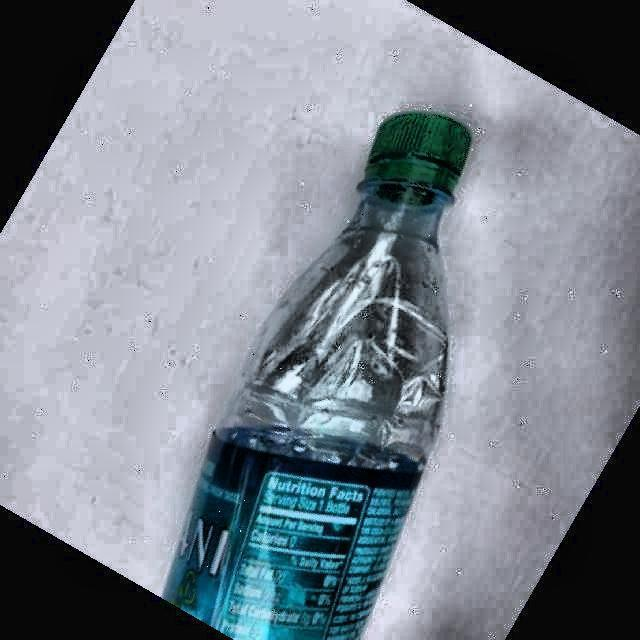plastic: (164, 112, 471, 640)
